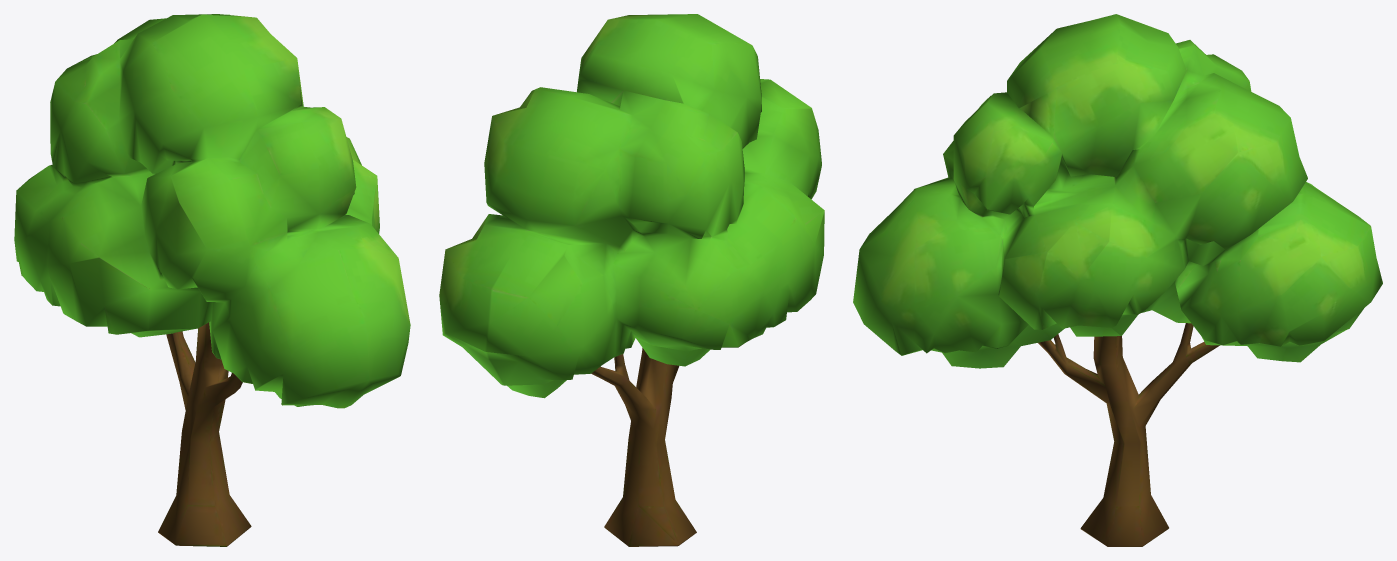
File: tree-a-DsGgUOel.glb
The picture shows the model from 3 angles, left to right: view 1: azimuth 30°, elevation 25°; view 2: azimuth 150°, elevation 25°; view 3: azimuth 270°, elevation 25°; orthographic projection. The views are drawn at different scales.
Parts seen in each view (by area): view 1: tripo_node_964d1f53-5806-4a38-b7a6-b58154821431; view 2: tripo_node_964d1f53-5806-4a38-b7a6-b58154821431; view 3: tripo_node_964d1f53-5806-4a38-b7a6-b58154821431.
Part boxes in pixels (<box>): tripo_node_964d1f53-5806-4a38-b7a6-b58154821431: <box>14,14,410,546</box>; tripo_node_964d1f53-5806-4a38-b7a6-b58154821431: <box>439,14,824,546</box>; tripo_node_964d1f53-5806-4a38-b7a6-b58154821431: <box>853,14,1382,546</box>.
Size of the model in its own units: 0.593 by 1 by 0.9569.
1 material, 1 textured.
